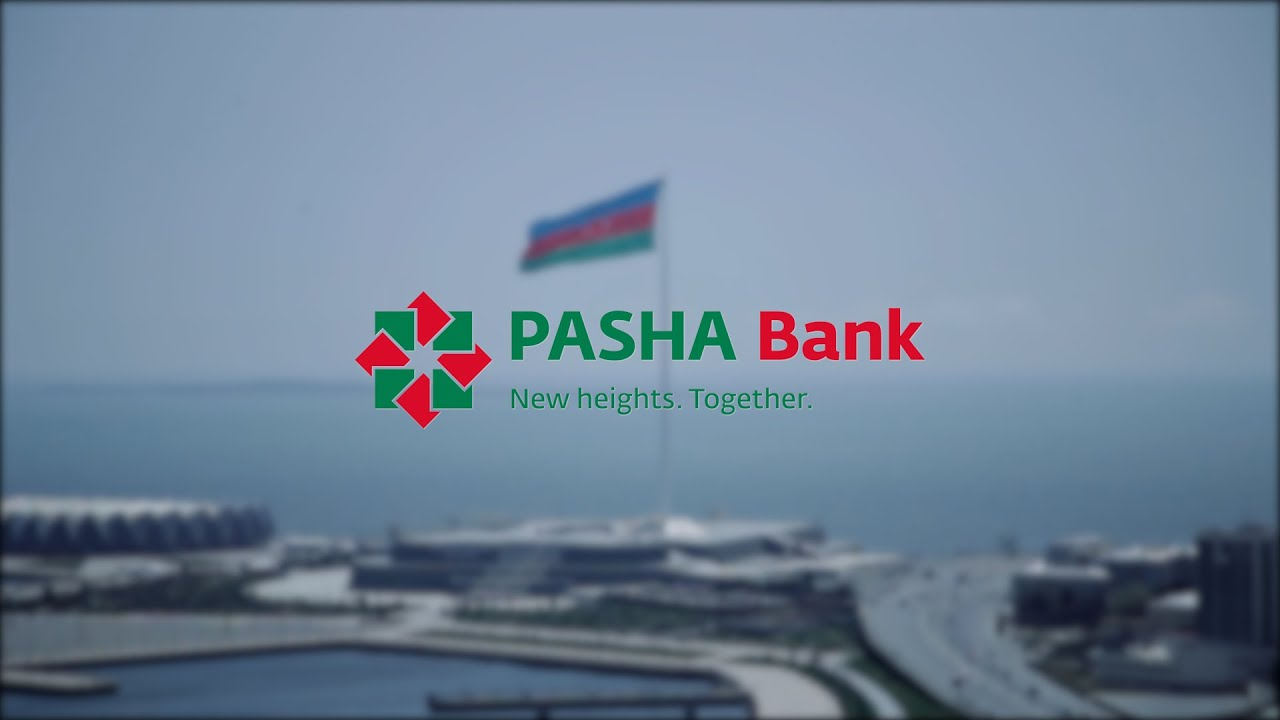Pasha Bank: (351, 288, 494, 431)
